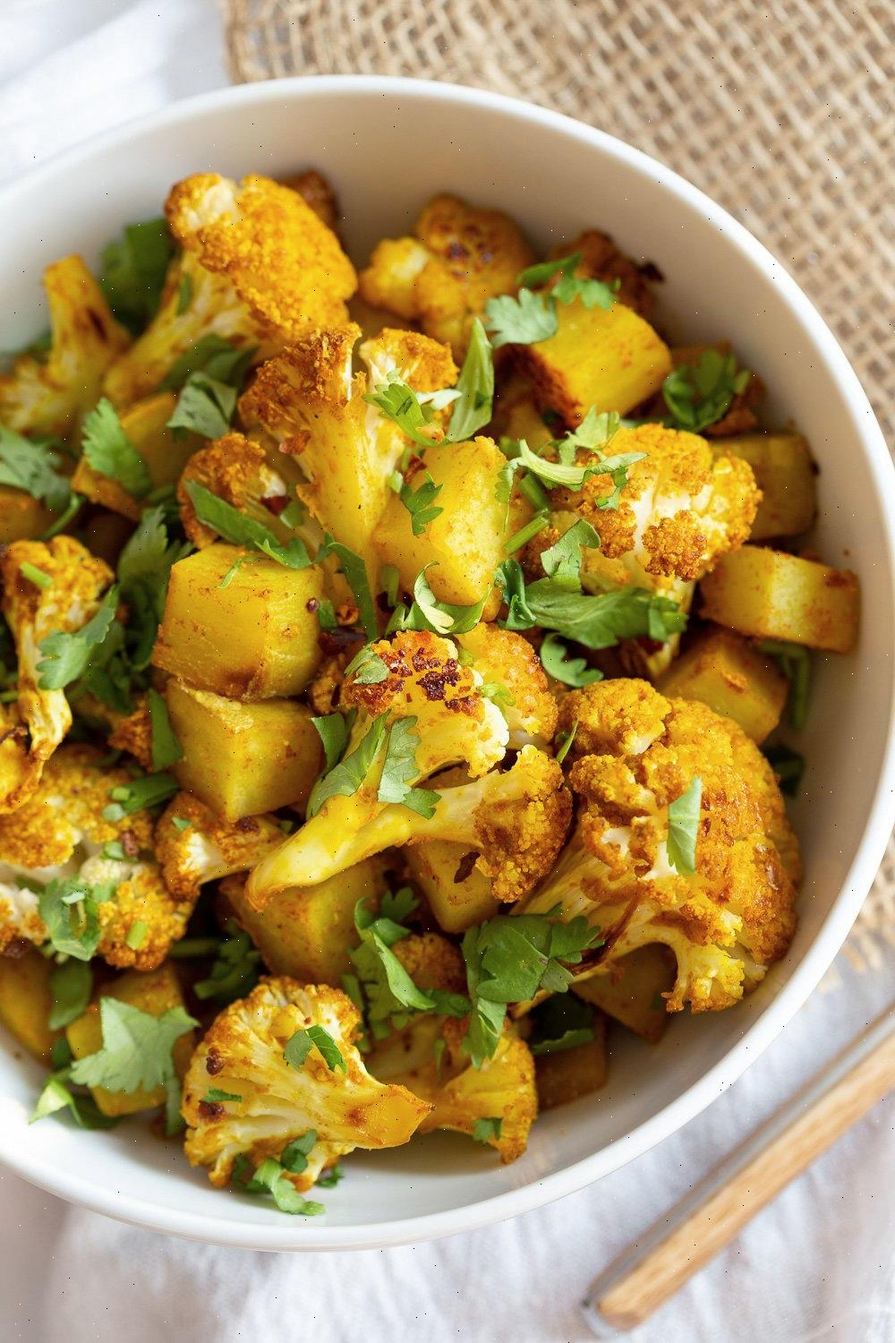aloo gobhi: (22, 231, 826, 1213)
